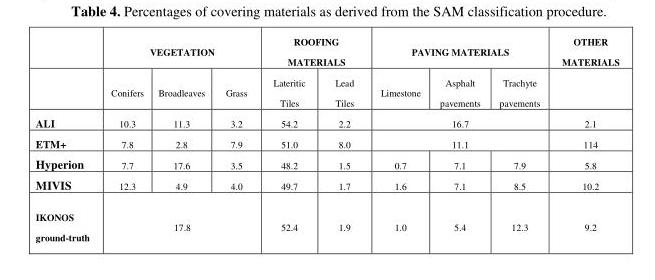table: (34, 34, 618, 243)
table column: (550, 34, 618, 243), (34, 34, 99, 243), (150, 34, 214, 243), (366, 34, 429, 243), (489, 34, 550, 243), (259, 34, 319, 243), (429, 34, 489, 243), (99, 34, 150, 243), (319, 34, 366, 243), (214, 34, 259, 243)
table column header: (34, 34, 618, 111)
table row: (34, 201, 618, 243), (34, 71, 618, 111), (34, 34, 618, 71), (34, 174, 618, 201), (34, 111, 618, 133), (34, 153, 618, 174), (34, 133, 618, 153)
table spanning cell: (366, 34, 550, 71), (99, 201, 259, 243), (99, 34, 259, 71), (550, 34, 618, 111), (366, 111, 550, 133), (259, 34, 366, 71), (366, 133, 550, 153)
